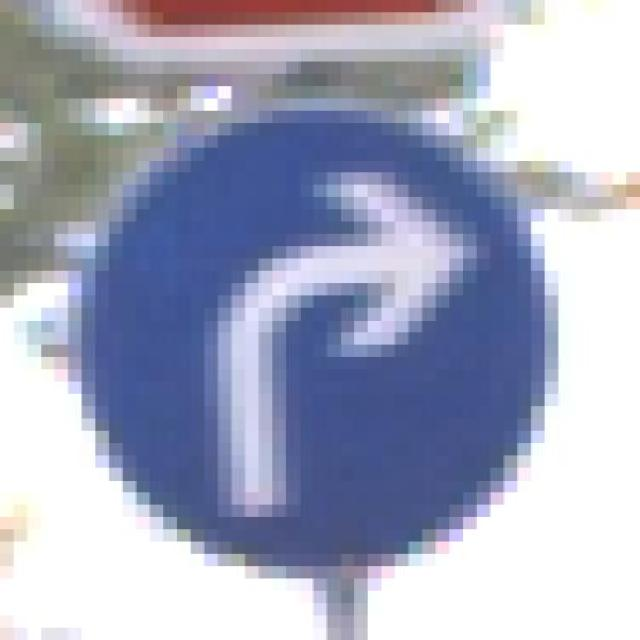Turn right ahead: (40, 86, 558, 579)
